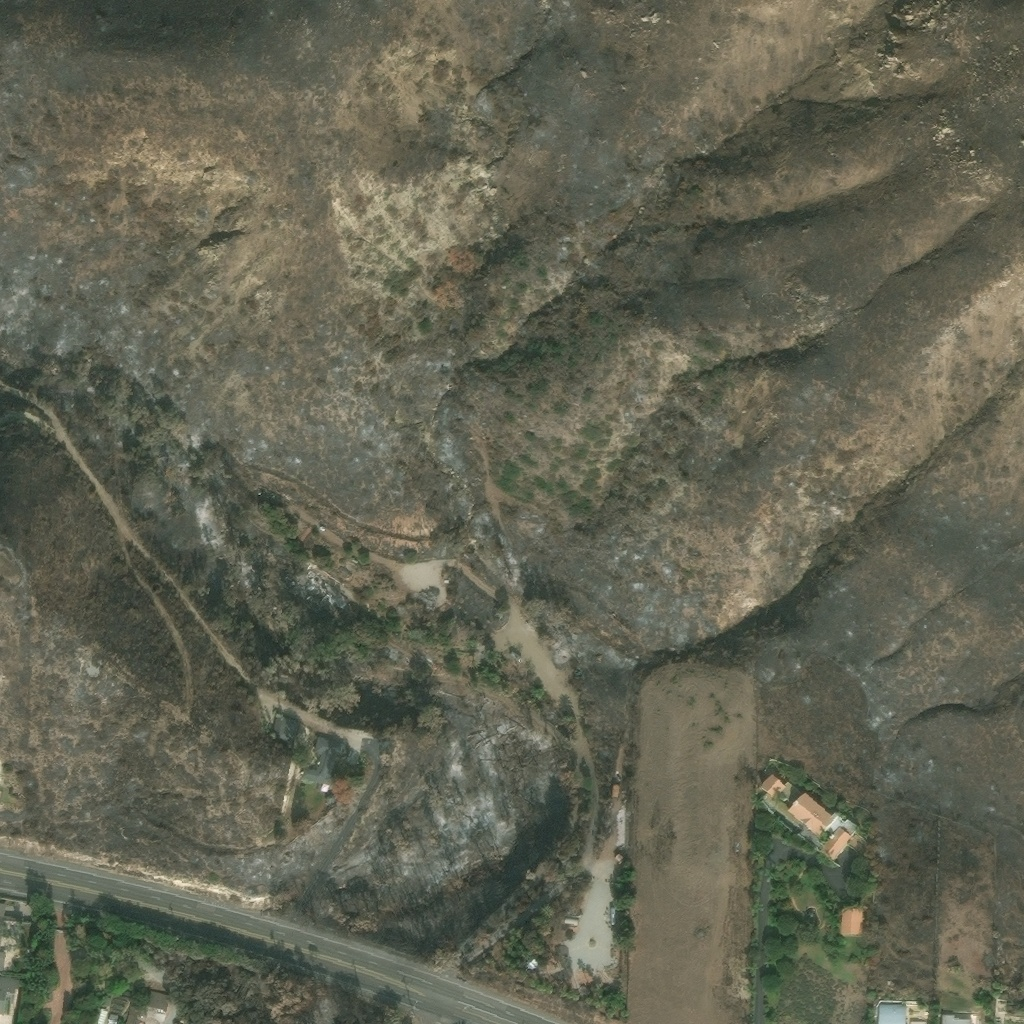0 no-damage: (757, 775, 867, 863), (303, 737, 344, 787), (130, 987, 170, 1015), (270, 714, 298, 746), (0, 976, 20, 1015), (995, 997, 1023, 1023), (840, 907, 862, 937), (875, 1004, 905, 1023), (0, 903, 23, 922), (941, 1014, 969, 1023), (92, 1007, 107, 1023), (524, 958, 537, 971), (99, 994, 112, 1007), (610, 784, 620, 799), (577, 987, 588, 998), (126, 1012, 137, 1023), (564, 918, 576, 926), (0, 952, 5, 971), (567, 911, 580, 918), (610, 908, 615, 926), (108, 1014, 118, 1023), (614, 853, 622, 862)
3 destroyed: (297, 568, 352, 612), (254, 484, 286, 506), (419, 590, 433, 602)
